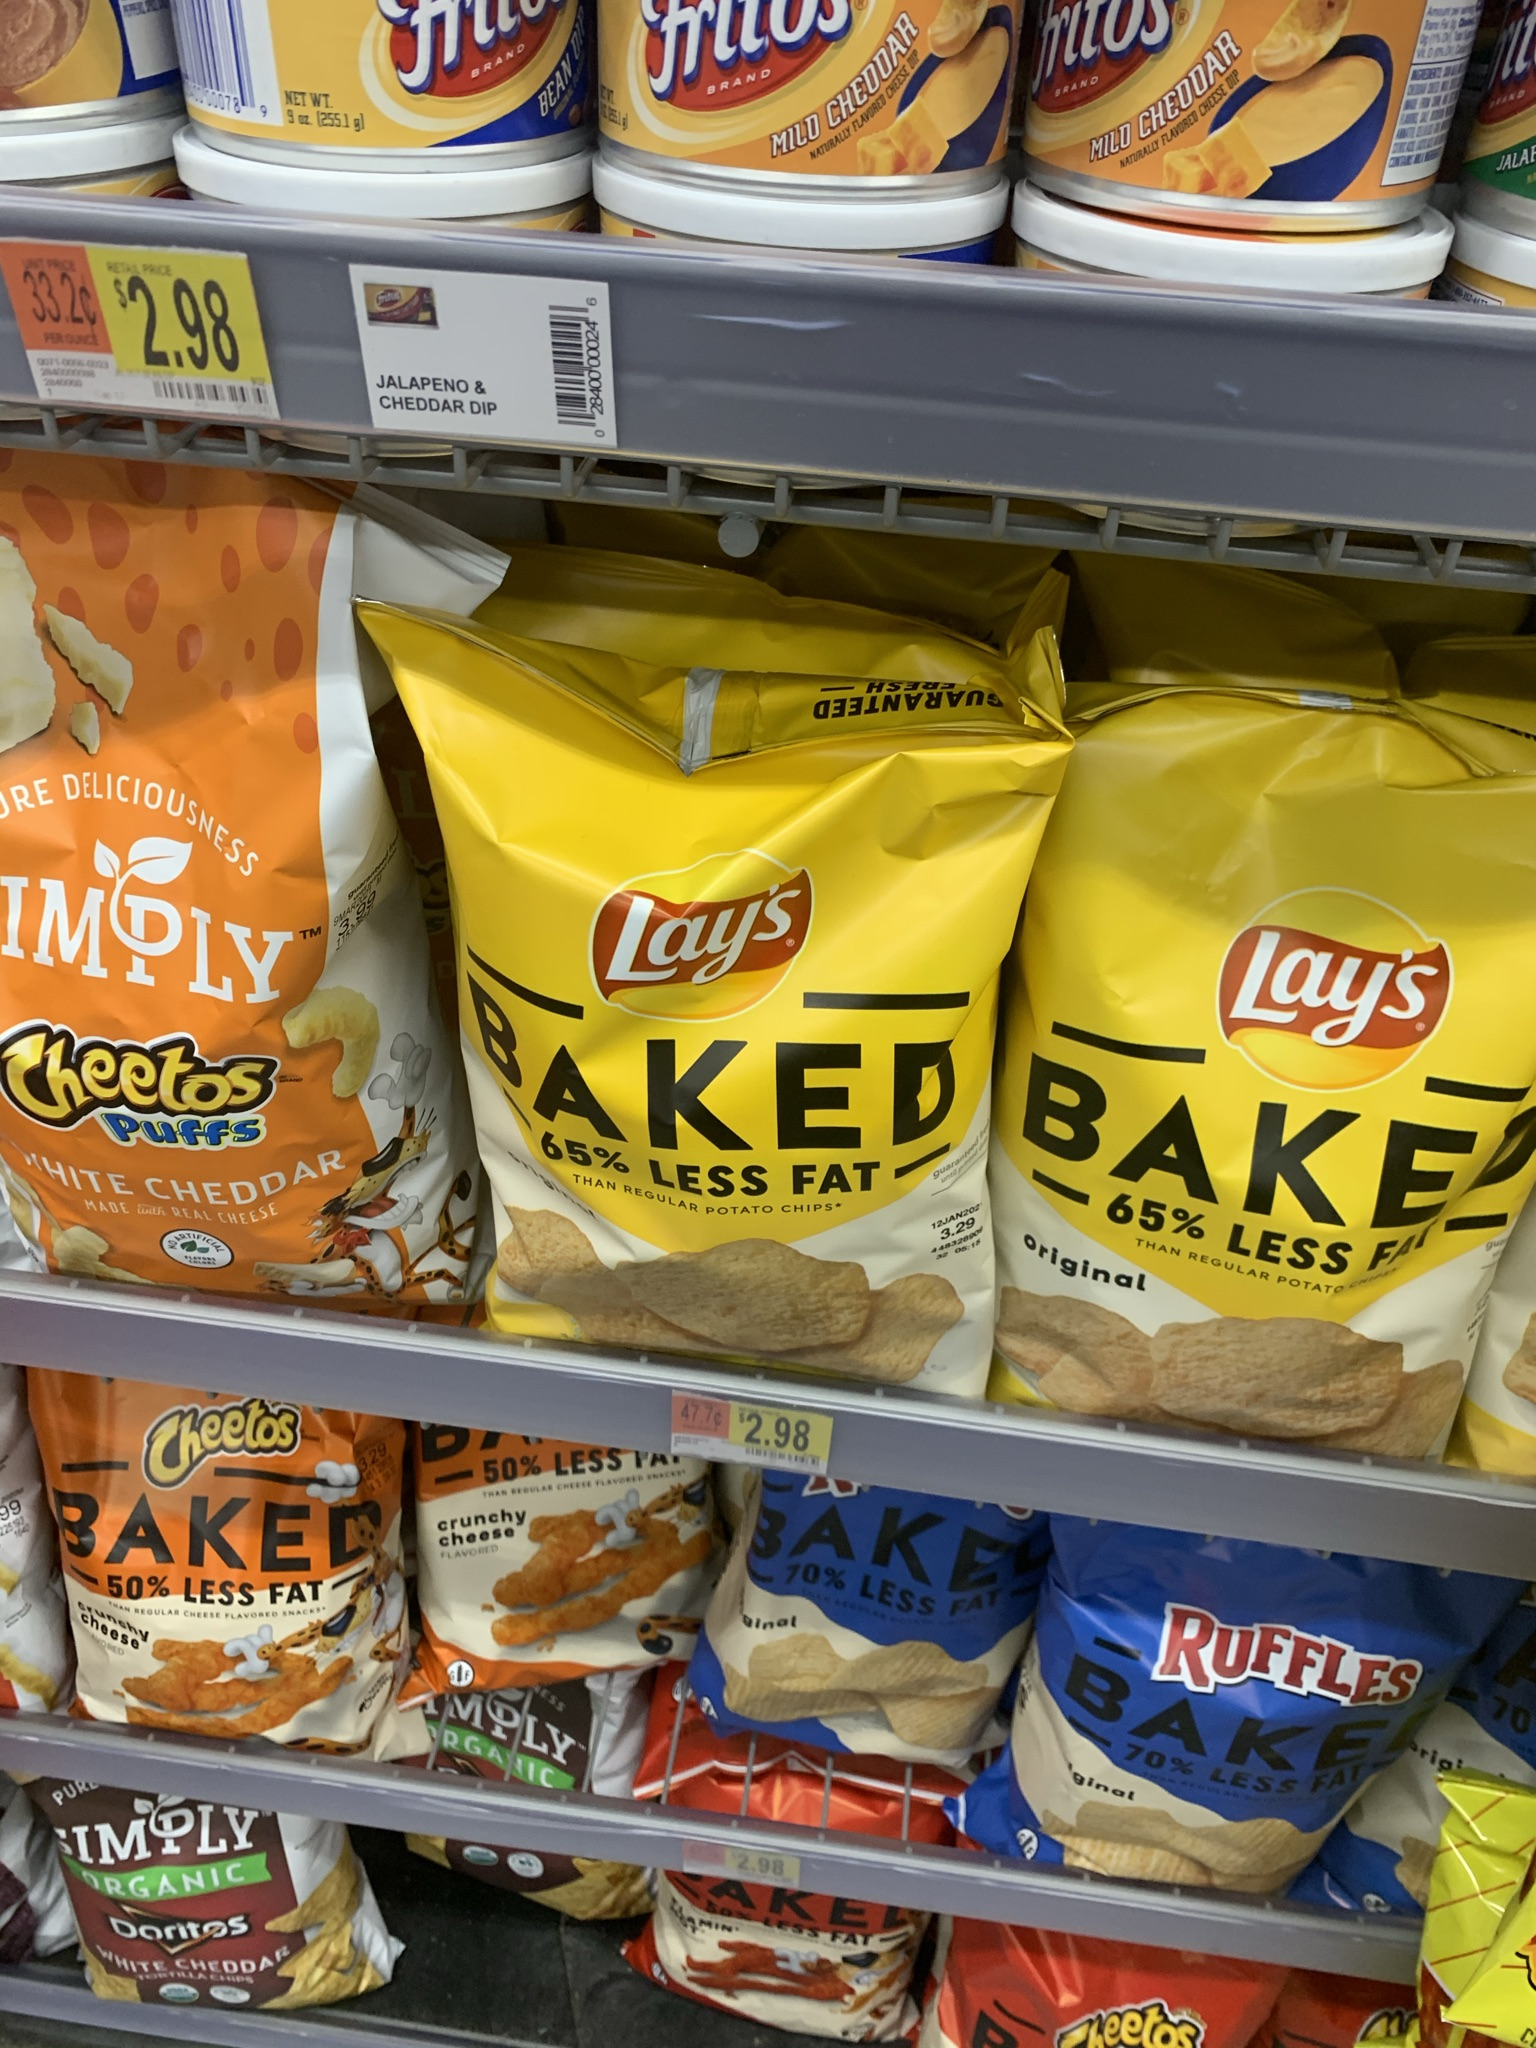cheetos chips: (10, 493, 428, 1274), (44, 1384, 432, 1793), (432, 1434, 692, 1643)
la: (437, 631, 989, 1334)
lays: (1099, 697, 1454, 1469)
ruffles chips: (749, 1461, 989, 1846), (1066, 1546, 1284, 1934)
